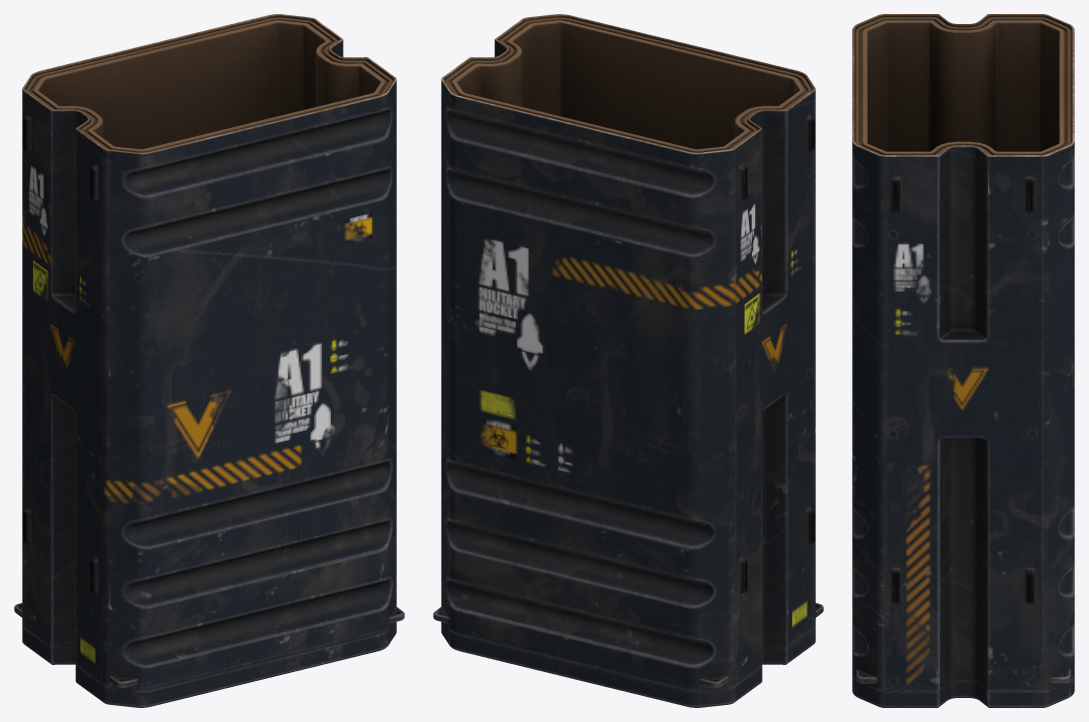
The model's file is SM_AmmunitionBoxes02_Body.fbx.
3 views of the same model, side by side, from view 1: azimuth 30°, elevation 25°; view 2: azimuth 150°, elevation 25°; view 3: azimuth 270°, elevation 25° (orthographic).
Visible parts, largest first — view 1: SM_AmmunitionBoxes02_Body_LOD0; view 2: SM_AmmunitionBoxes02_Body_LOD0; view 3: SM_AmmunitionBoxes02_Body_LOD0.
Boxes of the visible parts, x1,y1,x2,y2 form: SM_AmmunitionBoxes02_Body_LOD0: (14,14,404,707); SM_AmmunitionBoxes02_Body_LOD0: (433,14,823,707); SM_AmmunitionBoxes02_Body_LOD0: (852,14,1074,707).
Size of the model in its own units: 62.27 by 39.74 by 109.
1 material, 1 textured.
